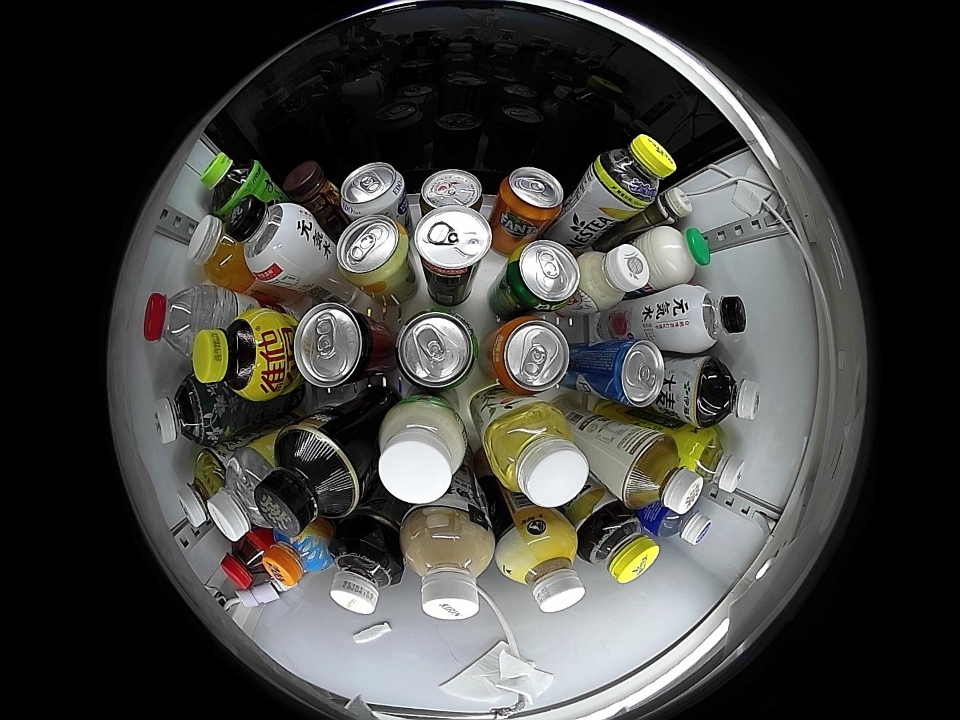asamu: (499, 528, 585, 614)
baicha: (177, 451, 227, 529)
baokuangli: (652, 497, 713, 546)
binghongcha: (220, 530, 275, 590)
bingtangxueli: (684, 429, 746, 494)
chacui: (581, 505, 660, 585), (595, 134, 675, 209)
chapai2: (484, 403, 589, 509)
damaicha: (695, 358, 762, 426)
fenda: (490, 315, 572, 394), (499, 166, 565, 225)
guolicheng: (264, 519, 334, 588)
hongniu2: (420, 169, 484, 214)
kafei: (646, 187, 693, 227)
lingdukele: (293, 302, 381, 389)
liziyuan: (640, 225, 711, 289)
lujikafei: (282, 160, 339, 212)
mangguoxiaolao: (335, 215, 410, 288)
moliqingcha: (153, 377, 223, 445)
nongfushanquan: (144, 286, 216, 356)
qingdaowangzi-2: (603, 338, 666, 408)
qinningshui: (205, 448, 274, 541)
quchenshixiangcao: (394, 309, 479, 391)
rancha-1: (255, 422, 362, 534)
rancha-2: (619, 431, 704, 516)
rusuanjunqishui: (339, 162, 407, 218)
weic: (187, 215, 254, 290)
weitaningmeng-bottle: (191, 306, 286, 402)
weiweidounai: (579, 242, 649, 311)
wuhounaicha: (400, 510, 495, 622)
wulongcha: (329, 537, 402, 616)
xuebi2: (504, 239, 581, 312)
yezhi: (413, 207, 493, 281)
yitengyuan: (200, 150, 262, 213)
yousuanru: (379, 396, 468, 504)
yuanqishui: (224, 195, 316, 282), (673, 287, 748, 353)
